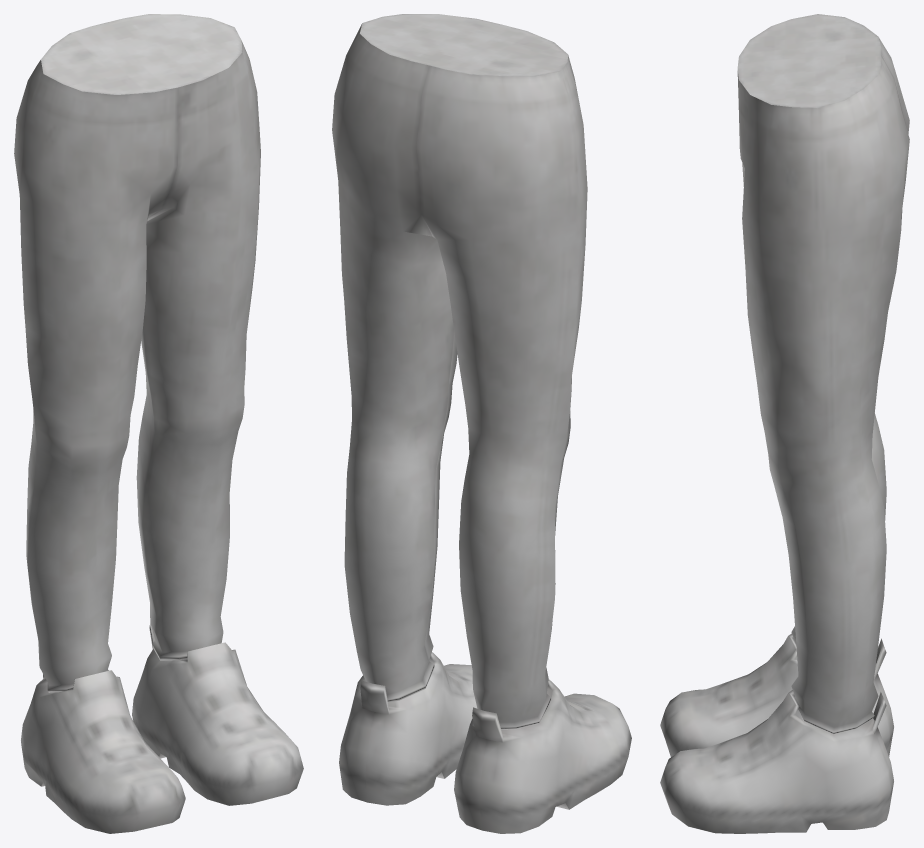
The model's file is tr0730_00_lwb02.gltf.
3 views of the same model, side by side, from view 1: azimuth 30°, elevation 25°; view 2: azimuth 150°, elevation 25°; view 3: azimuth 270°, elevation 25° (orthographic). The views are drawn at different scales.
Visible parts, largest first — view 1: lwb02_lowerbody_mesh_shape:lowerbody02, lwb02_shoes_mesh_shape:lowerbody02; view 2: lwb02_lowerbody_mesh_shape:lowerbody02, lwb02_shoes_mesh_shape:lowerbody02; view 3: lwb02_lowerbody_mesh_shape:lowerbody02, lwb02_shoes_mesh_shape:lowerbody02.
Part boxes in pixels (<box>): lwb02_lowerbody_mesh_shape:lowerbody02: <box>14,14,260,692</box>; lwb02_shoes_mesh_shape:lowerbody02: <box>21,623,303,833</box>; lwb02_lowerbody_mesh_shape:lowerbody02: <box>332,14,587,729</box>; lwb02_shoes_mesh_shape:lowerbody02: <box>339,652,631,833</box>; lwb02_lowerbody_mesh_shape:lowerbody02: <box>737,14,909,734</box>; lwb02_shoes_mesh_shape:lowerbody02: <box>660,633,893,833</box>.
Size of what is drawn, in the model's own units: 0.3274 by 0.9678 by 0.3004.
Materials: 1 (1 with a texture image).
